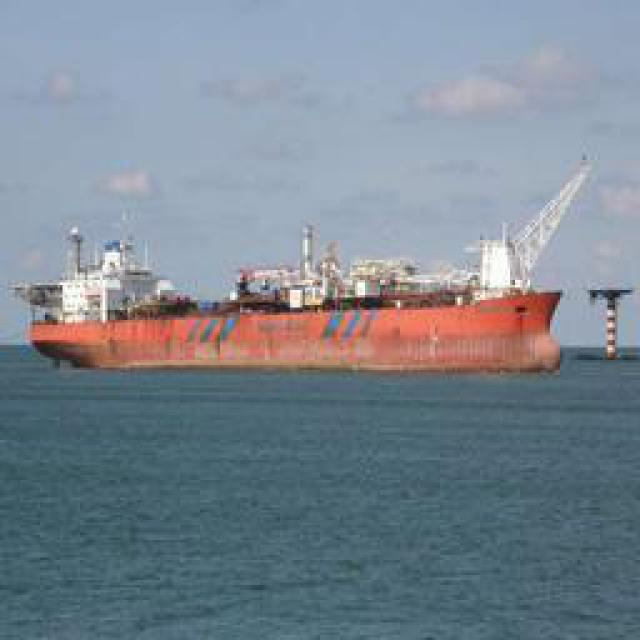Ship: (12, 160, 592, 378)
